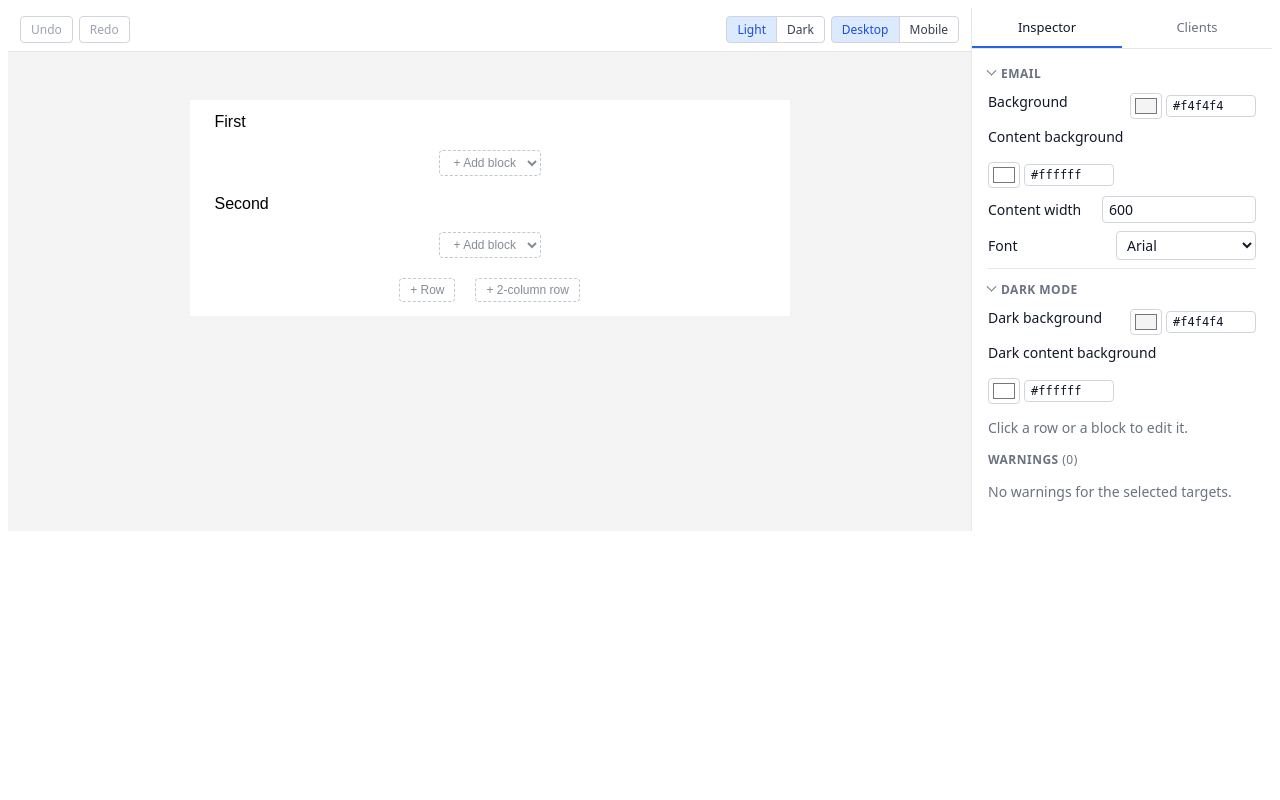
Test: <MailBlocks /> email and row settings › moves and removes rows
Click the element with class "mb-row" showing "First": (378, 144) [214,113,540,176]
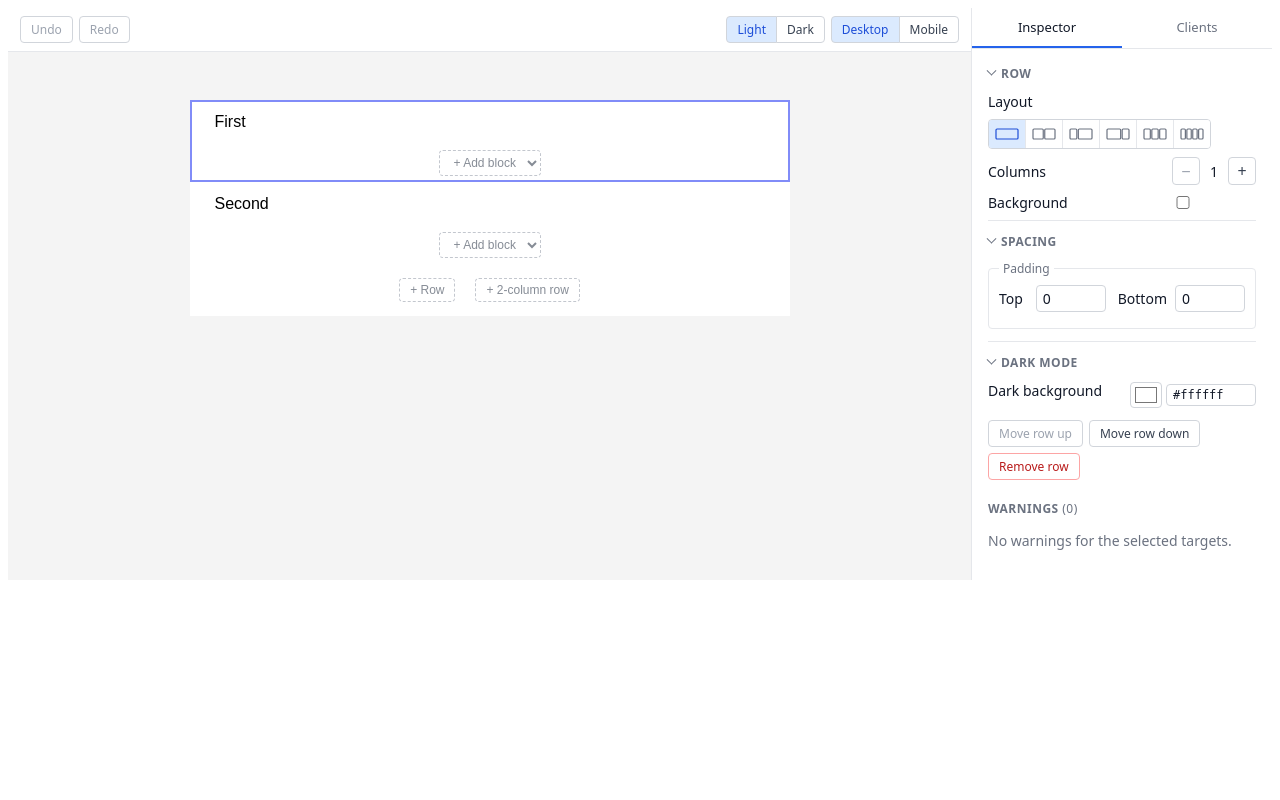
Click the button "Move row down": (1145, 434) [1089,420,1200,447]
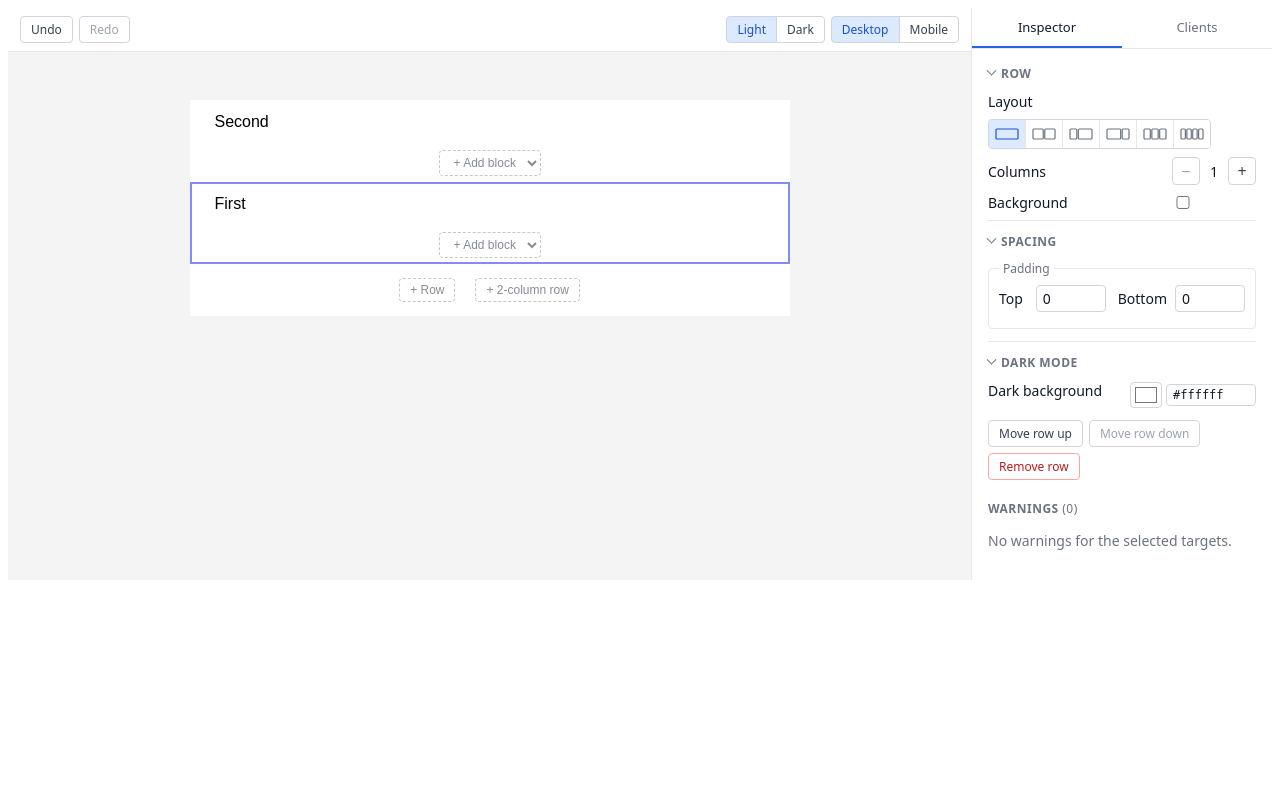
Click the button "Remove row": (1034, 466) [988,453,1080,480]
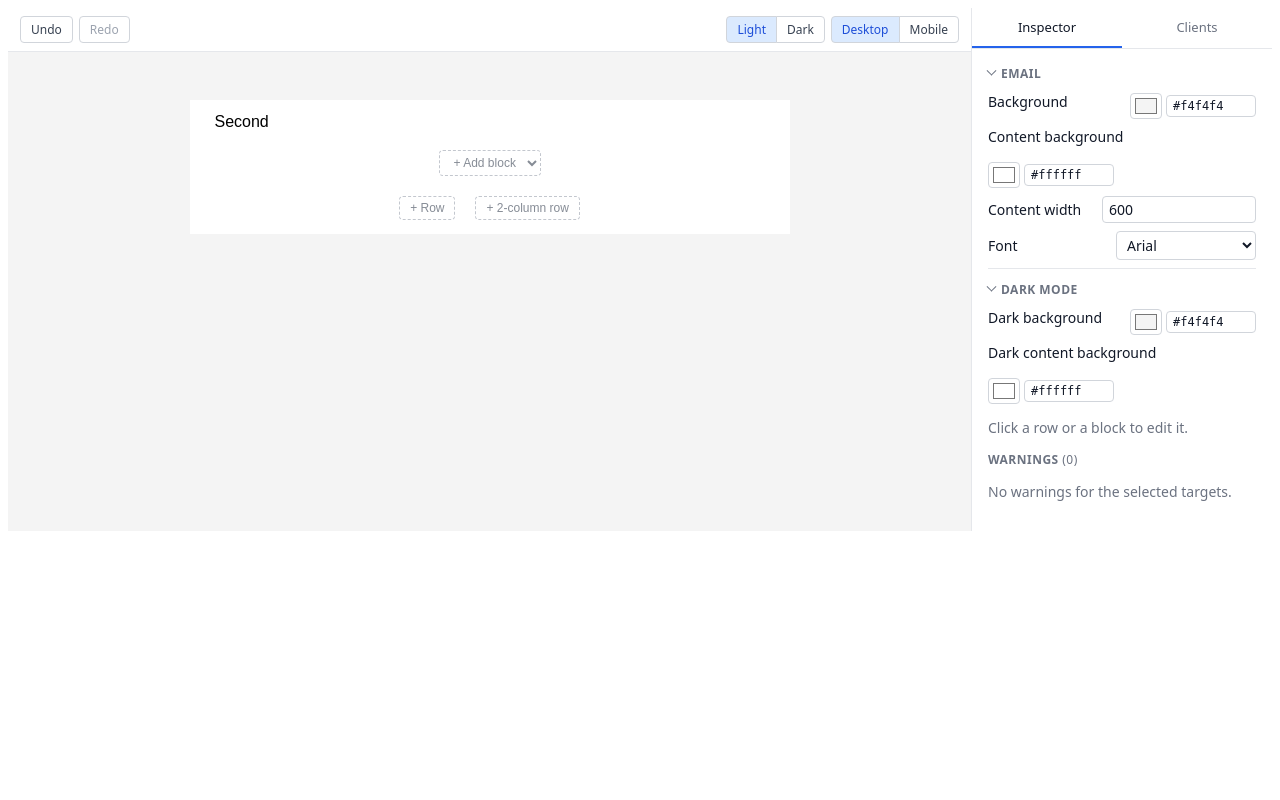
Expected: the number of elements with class "mb-row" is 1, [214,113,540,176]
Expected: the text box "First" is gone
